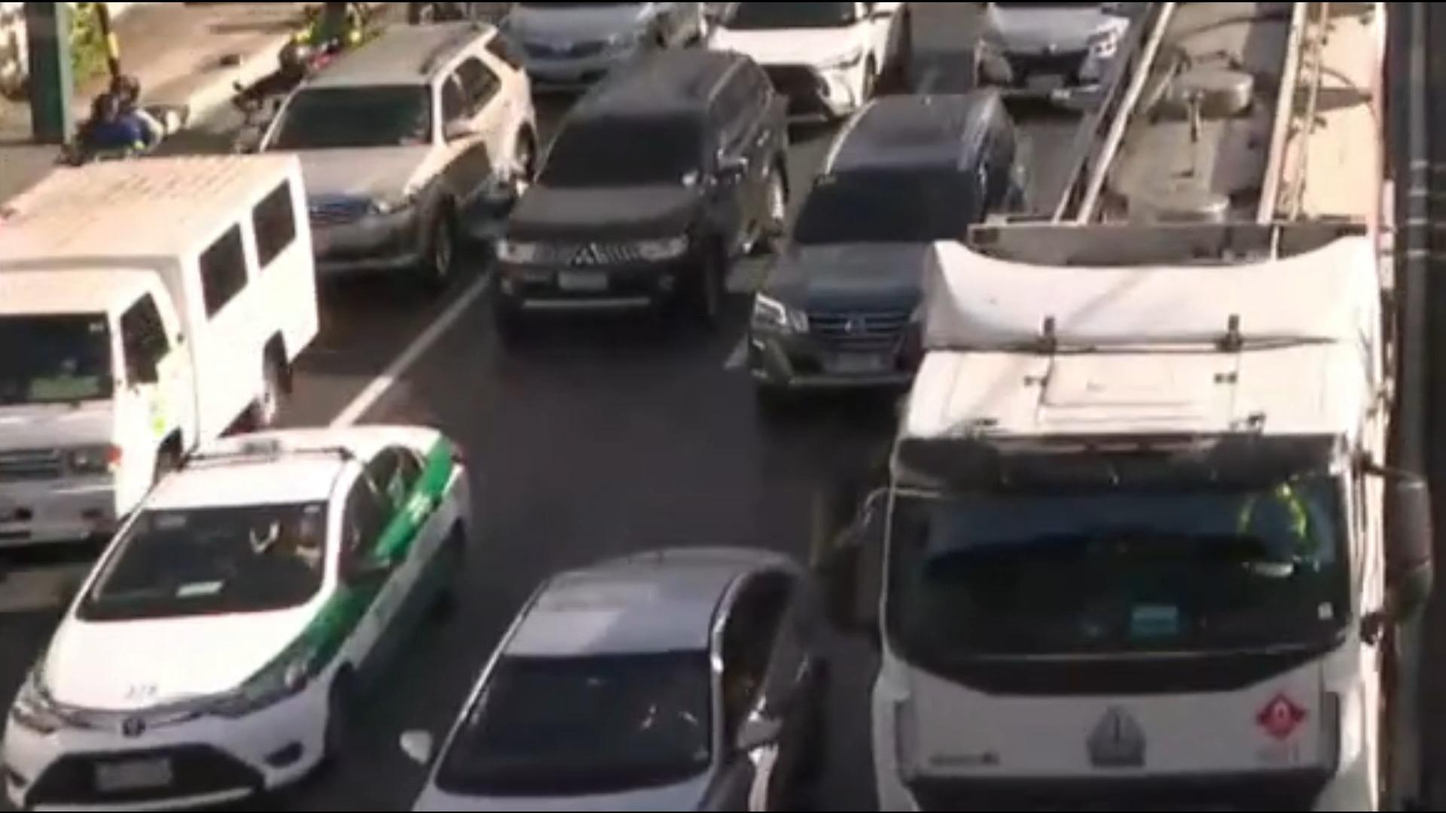Motorcycle: (60, 59, 192, 181)
Multicab: (0, 147, 345, 586)
SUV: (707, 70, 1062, 407), (499, 38, 872, 345), (243, 0, 558, 291)
Sedan: (0, 411, 503, 813), (390, 488, 844, 813)
Truck: (818, 0, 1446, 813)
